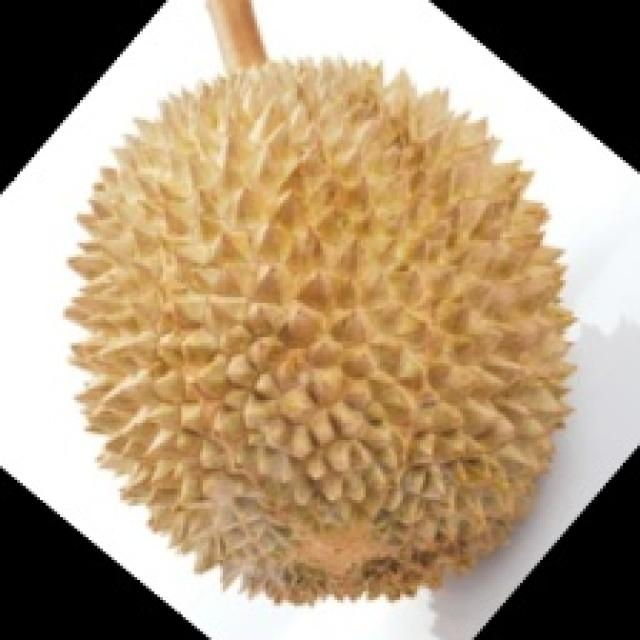d197: (59, 31, 589, 596)
